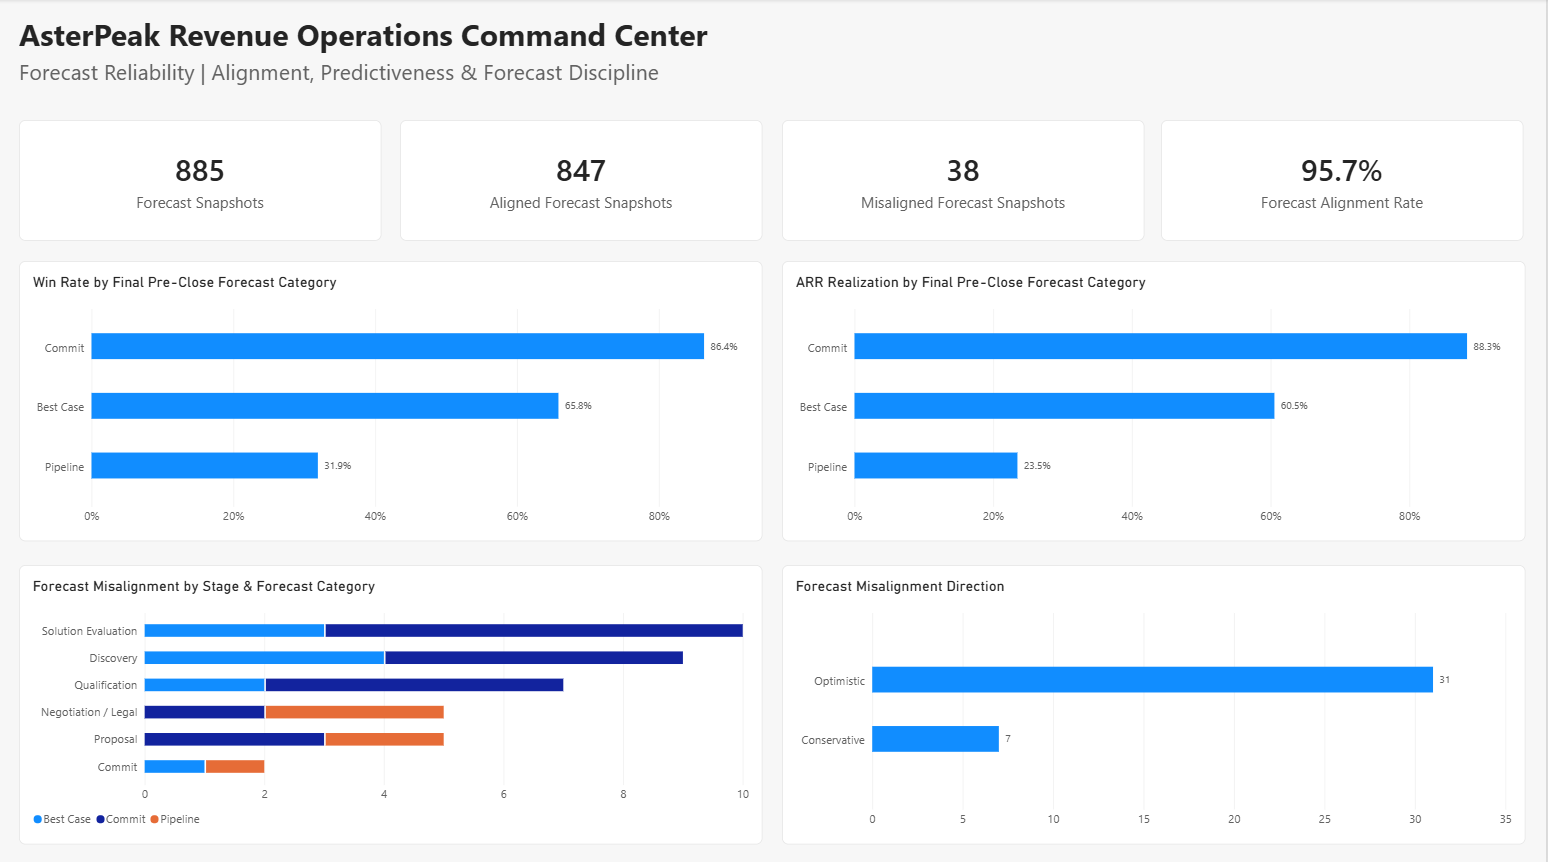

The page's visual inventory and layout, read from the dashboard file:
{"tool":"powerbi","page":{"name":"Forecast Reliability","canvas":[1920,1080],"ordinal":4},"visuals":[{"type":"textbox","title":"AsterPeak Revenue Operations Command Center","box":[24.4,19.2,1156.9,130.7],"z":0},{"type":"card","fields":{"Values":["_Measures.Forecast Snapshots"]},"box":[24.4,149.8,449.5,149.8],"z":1000},{"type":"card","fields":{"Values":["_Measures.Aligned Forecast Snapshots"]},"box":[498.3,149.8,449.5,149.8],"z":2000},{"type":"card","fields":{"Values":["_Measures.Misaligned Forecast Snapshots"]},"box":[972.2,149.8,449.5,149.8],"z":3000},{"type":"card","fields":{"Values":["_Measures.Forecast Alignment Rate"]},"box":[1442.6,149.8,449.5,149.8],"z":4000},{"type":"clusteredBarChart","title":"Win Rate by Final Pre-Close Forecast Category","fields":{"Category":["Opportunity_Forecast_Snapshots.forecast_category"],"Y":["_Measures.Final Pre-Close Win Rate"]},"box":[24.4,325.8,923.4,348.5],"z":5000},{"type":"clusteredBarChart","title":"ARR Realization by Final Pre-Close Forecast Category","fields":{"Category":["Opportunity_Forecast_Snapshots.forecast_category"],"Y":["_Measures.Final Pre-Close ARR Realization"]},"box":[972.2,325.8,923.4,348.5],"z":6000},{"type":"barChart","title":"Forecast Misalignment by Stage & Forecast Category","fields":{"Category":["Opportunity_Forecast_Snapshots.stage"],"Series":["Opportunity_Forecast_Snapshots.forecast_category"],"Y":["_Measures.Misaligned Forecast Snapshots"]},"box":[24.4,702.1,923.4,346.7],"z":6001},{"type":"clusteredBarChart","title":"Forecast Misalignment Direction","fields":{"Category":["Opportunity_Forecast_Snapshots.Forecast Bias"],"Y":["_Measures.Misaligned Forecast Snapshots"]},"box":[972.2,702.1,923,347],"z":6002}]}

Visuals, with their boxes in screenshot pixels (x1, y1, x2, y2), scaled from the page's 1920x1080 canvas onto the 1548x862 screenshot:
"AsterPeak Revenue Operations Command Center" textbox: left=20, top=15, right=952, bottom=120
card - _Measures.Forecast Snapshots: left=20, top=120, right=382, bottom=239
card - _Measures.Aligned Forecast Snapshots: left=402, top=120, right=764, bottom=239
card - _Measures.Misaligned Forecast Snapshots: left=784, top=120, right=1146, bottom=239
card - _Measures.Forecast Alignment Rate: left=1163, top=120, right=1526, bottom=239
"Win Rate by Final Pre-Close Forecast Category" clusteredBarChart: left=20, top=260, right=764, bottom=538
"ARR Realization by Final Pre-Close Forecast Category" clusteredBarChart: left=784, top=260, right=1528, bottom=538
"Forecast Misalignment by Stage & Forecast Category" barChart: left=20, top=560, right=764, bottom=837
"Forecast Misalignment Direction" clusteredBarChart: left=784, top=560, right=1528, bottom=837
